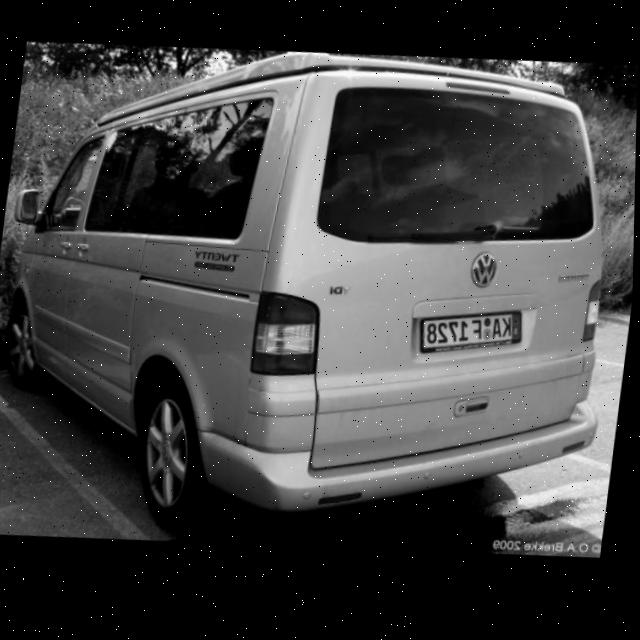license-plates: (420, 312, 522, 352)
